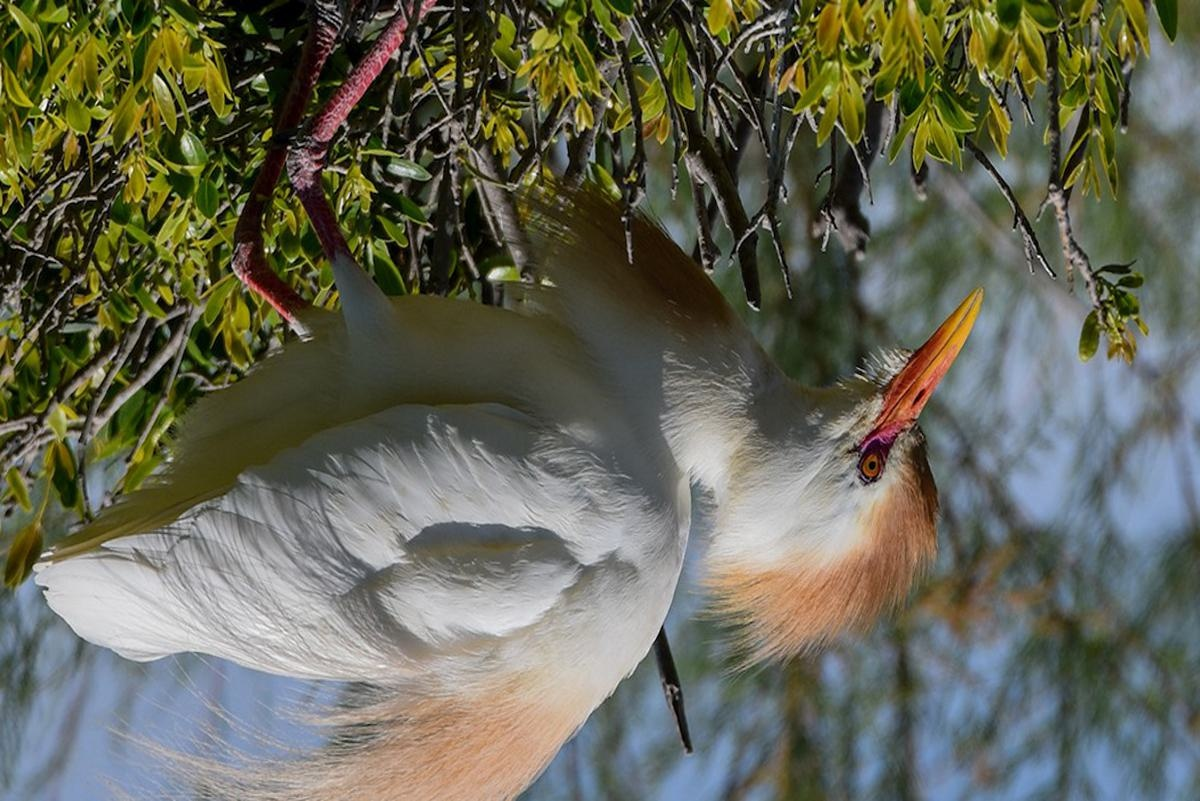egret: (1, 1, 990, 793)
